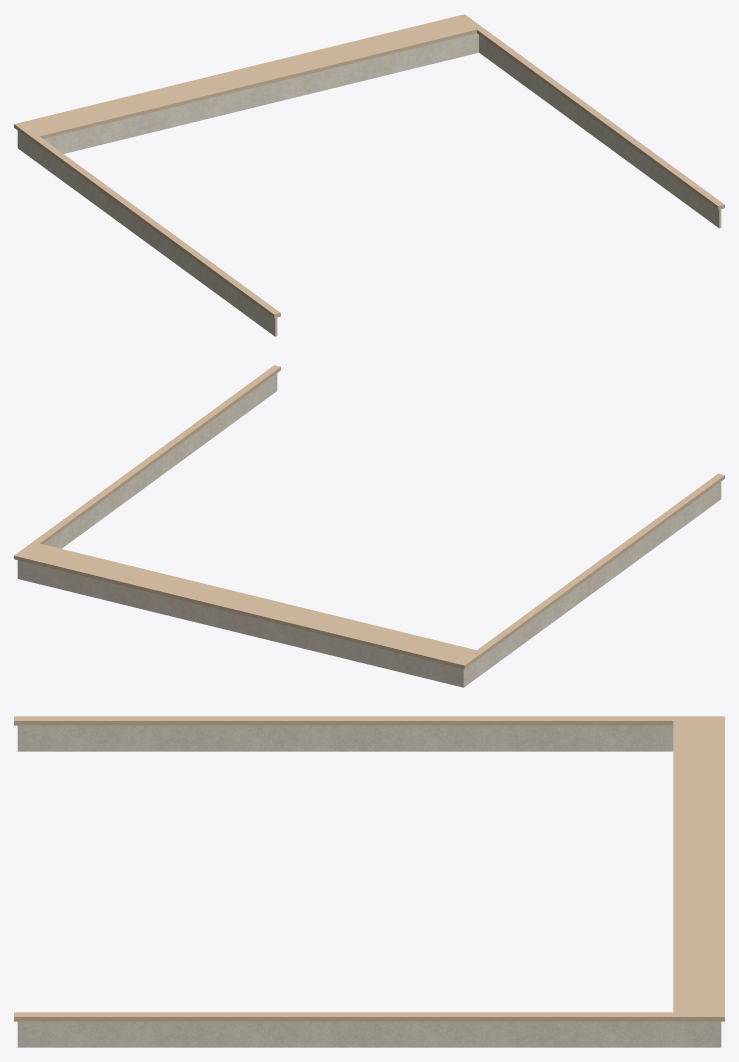
The model's file is stair_core_slab_192_192_29.glb.
3 views of the same model, one above another, from view 1: azimuth 30°, elevation 25°; view 2: azimuth 150°, elevation 25°; view 3: azimuth 270°, elevation 25° (orthographic). The views are drawn at different scales.
Parts seen in each view (by area): view 1: stair_core_slab_192_192_29_plaster, stair_core_slab_192_192_29_floor; view 2: stair_core_slab_192_192_29_plaster, stair_core_slab_192_192_29_floor; view 3: stair_core_slab_192_192_29_plaster, stair_core_slab_192_192_29_floor.
Part boxes in pixels (left/top/right/bottom): stair_core_slab_192_192_29_plaster: left=17, top=33, right=721, bottom=336; stair_core_slab_192_192_29_floor: left=14, top=14, right=724, bottom=318; stair_core_slab_192_192_29_plaster: left=17, top=373, right=721, bottom=687; stair_core_slab_192_192_29_floor: left=14, top=365, right=724, bottom=669; stair_core_slab_192_192_29_plaster: left=17, top=725, right=721, bottom=1047; stair_core_slab_192_192_29_floor: left=14, top=716, right=724, bottom=1021.
Bounding box in the file's own units: 4 × 0.2 × 4.
Materials: 2 (1 with a texture image).
